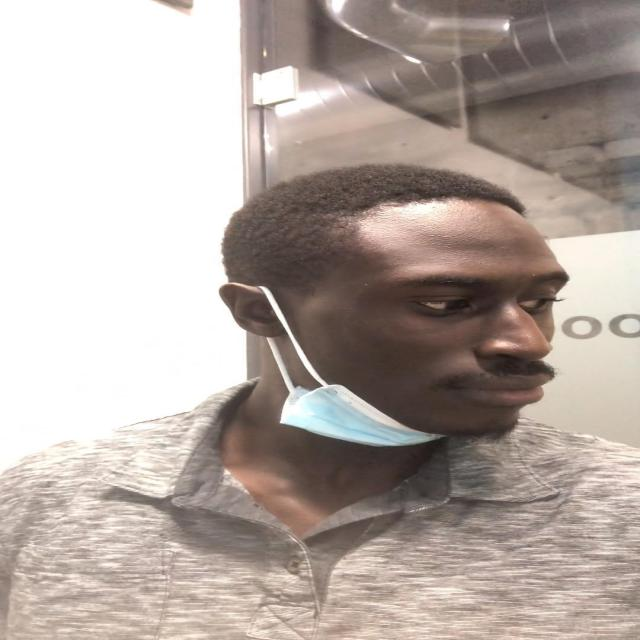face: (291, 211, 568, 436)
